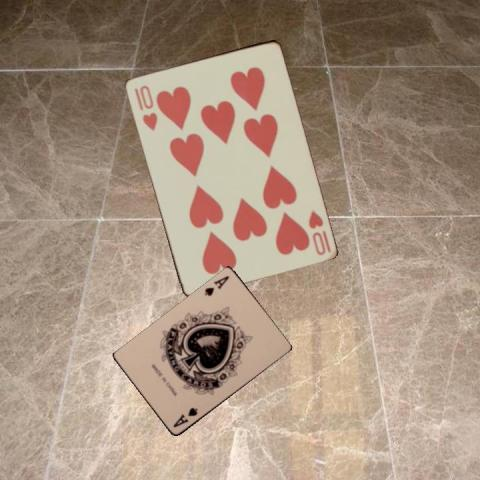10h: (130, 82, 158, 132), (305, 206, 332, 256)
As: (201, 273, 231, 298), (170, 405, 199, 429)
